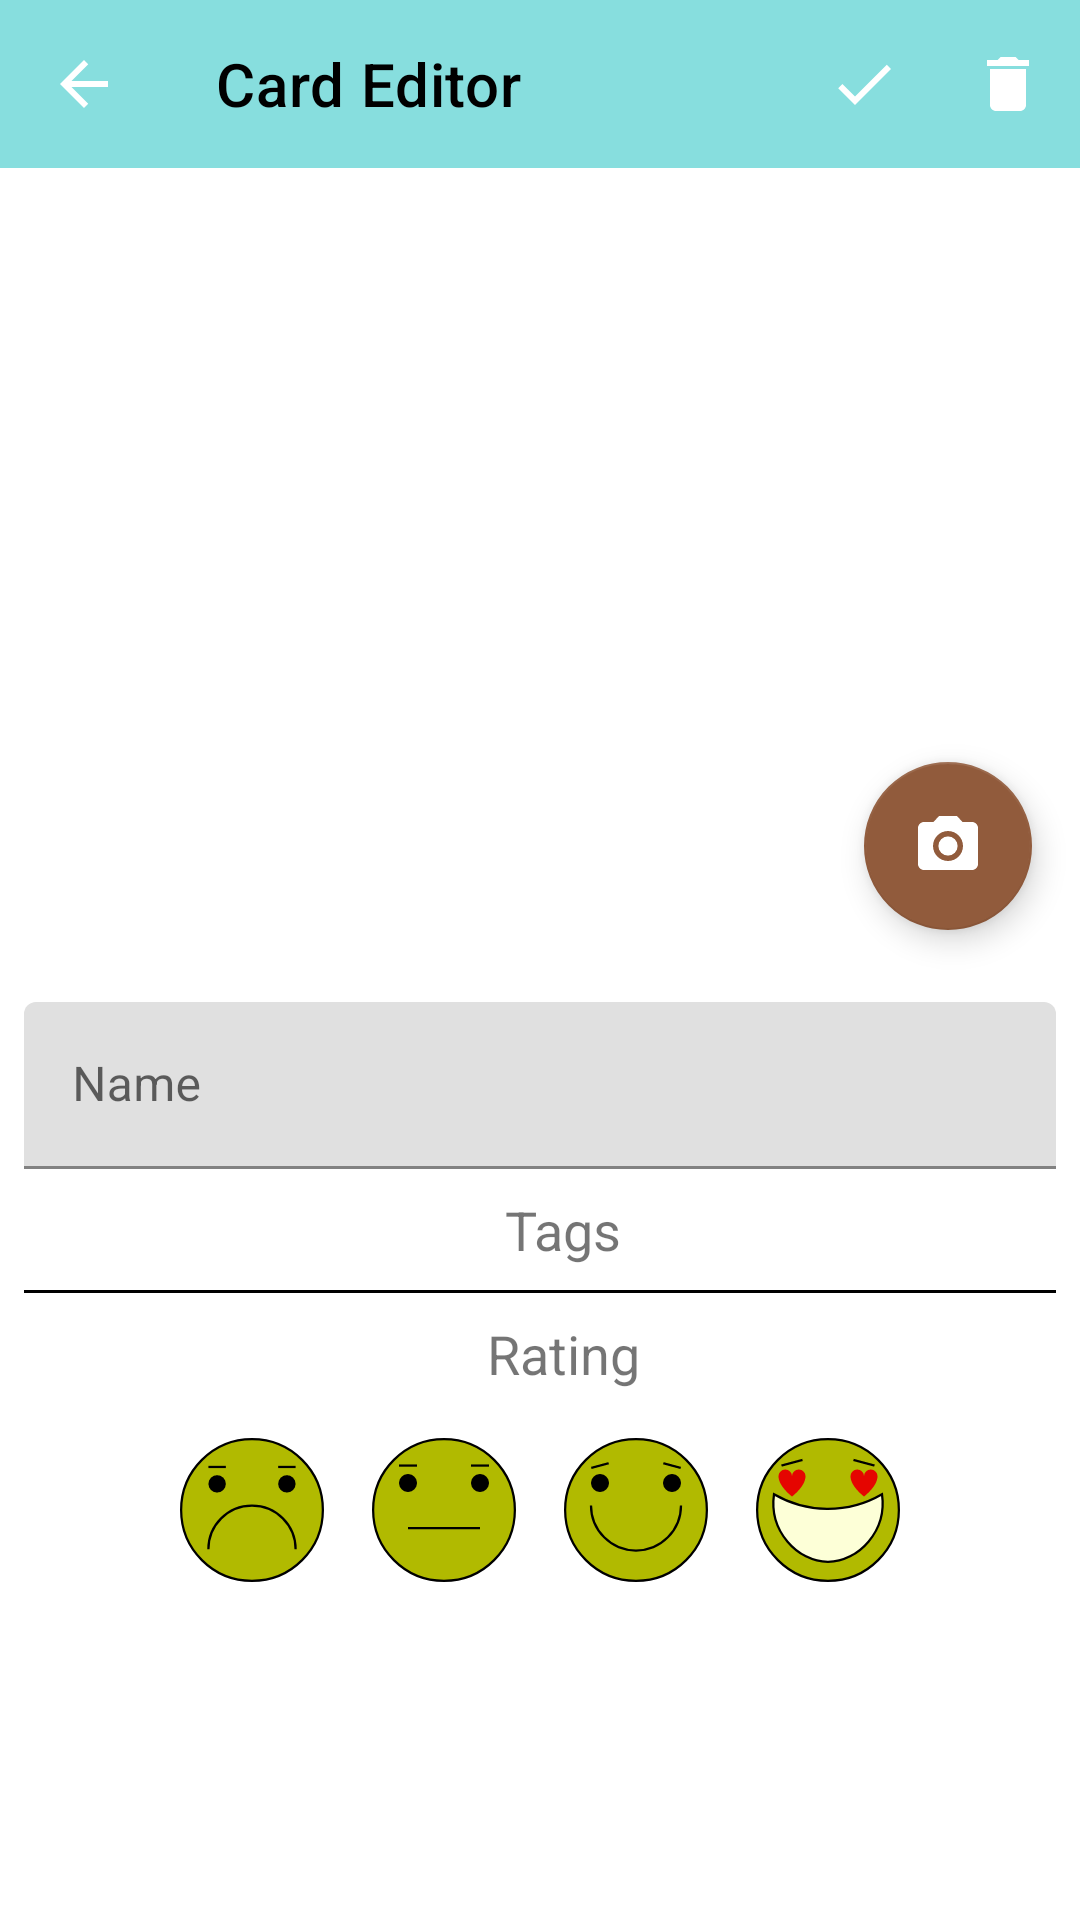

Where to tap for icons on this 1080x1920 app screen, as (x=x, y=y):
Add Photo to Card: (x=948, y=846)
